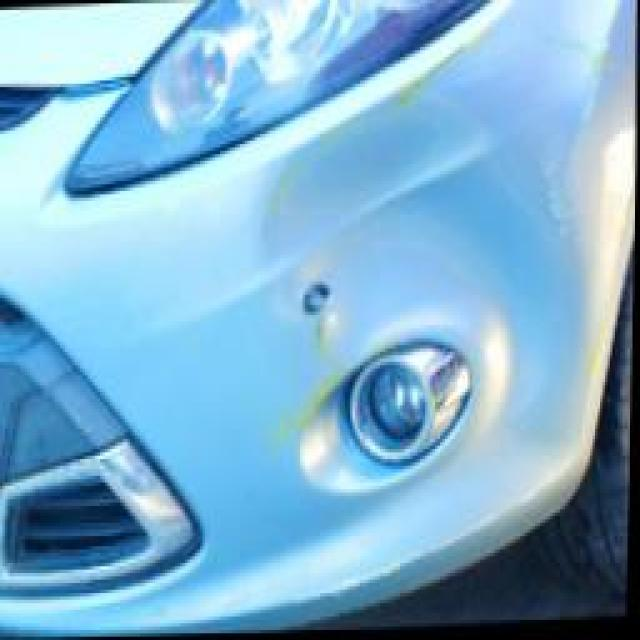Bumper: (250, 117, 588, 564)
